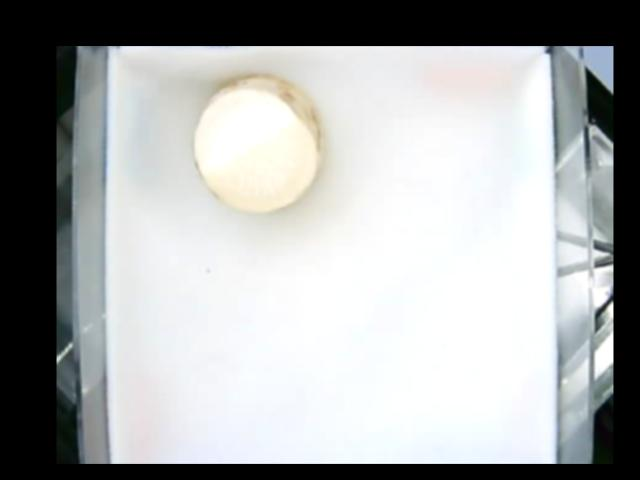Mooli: (194, 73, 322, 210)
